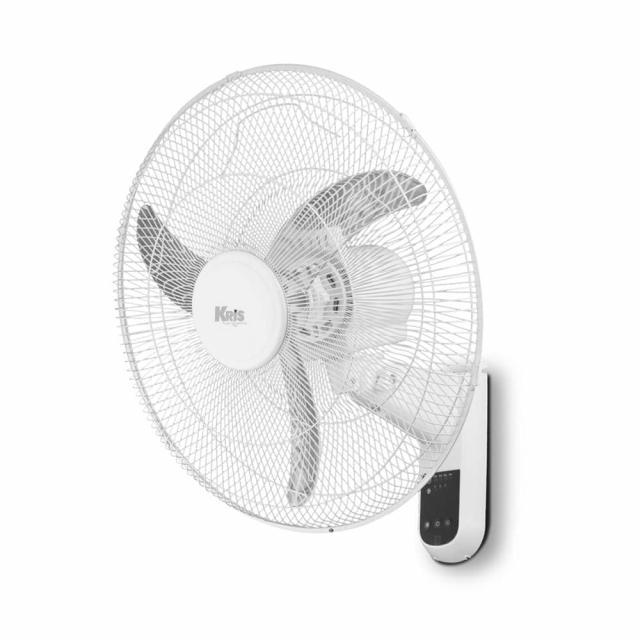fan: (111, 64, 501, 567)
